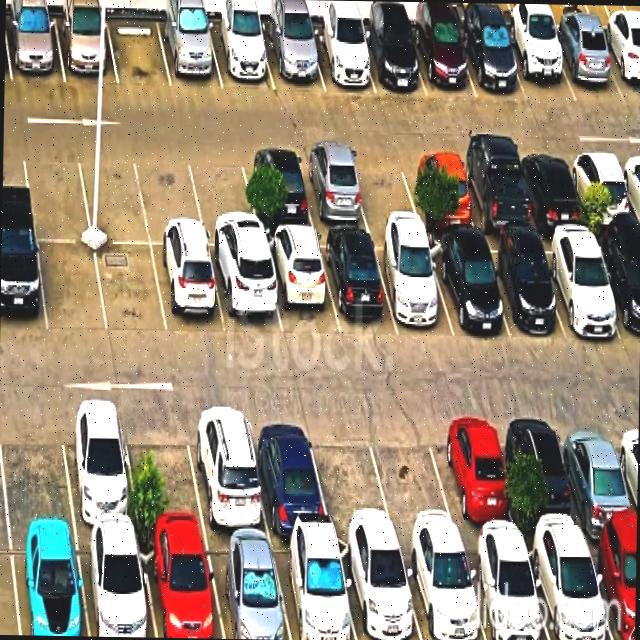empty: (366, 412, 460, 537), (307, 413, 395, 536), (122, 406, 205, 533), (0, 404, 74, 530), (186, 149, 260, 246), (76, 147, 150, 243), (135, 148, 206, 244), (95, 243, 167, 336), (21, 145, 91, 239), (37, 241, 107, 332), (347, 150, 421, 226), (106, 16, 171, 86)
occupied: (431, 412, 519, 539), (185, 406, 269, 534), (246, 410, 330, 533), (504, 411, 585, 538), (59, 403, 139, 531), (556, 412, 637, 536), (524, 537, 612, 640), (204, 536, 291, 640), (461, 539, 549, 640), (537, 233, 623, 336), (399, 539, 486, 640), (336, 537, 421, 640), (271, 537, 356, 640), (139, 535, 223, 638), (479, 238, 564, 336), (76, 532, 155, 637), (371, 235, 453, 336), (426, 238, 509, 337), (10, 532, 88, 636), (262, 233, 339, 336), (318, 234, 397, 333), (151, 245, 225, 334), (208, 248, 282, 335), (456, 151, 534, 231), (240, 150, 314, 229), (547, 27, 624, 102), (403, 151, 477, 229), (297, 150, 369, 228), (502, 28, 576, 102), (515, 150, 586, 226), (585, 535, 636, 640), (566, 150, 636, 226), (592, 232, 640, 342), (457, 24, 526, 99), (409, 23, 476, 97), (357, 26, 426, 95), (207, 20, 274, 89), (157, 18, 222, 89), (307, 26, 375, 93), (0, 235, 46, 332), (54, 16, 118, 83), (261, 25, 324, 89), (5, 15, 64, 82), (597, 30, 640, 102)
